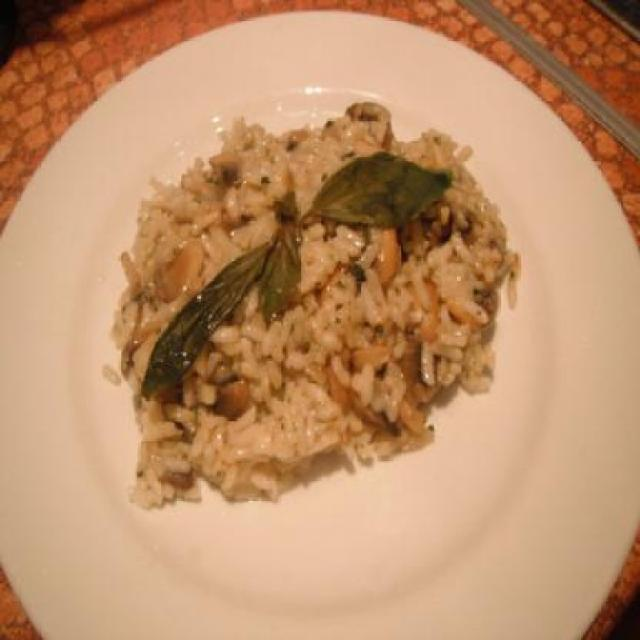Risotto: (104, 103, 544, 519)
